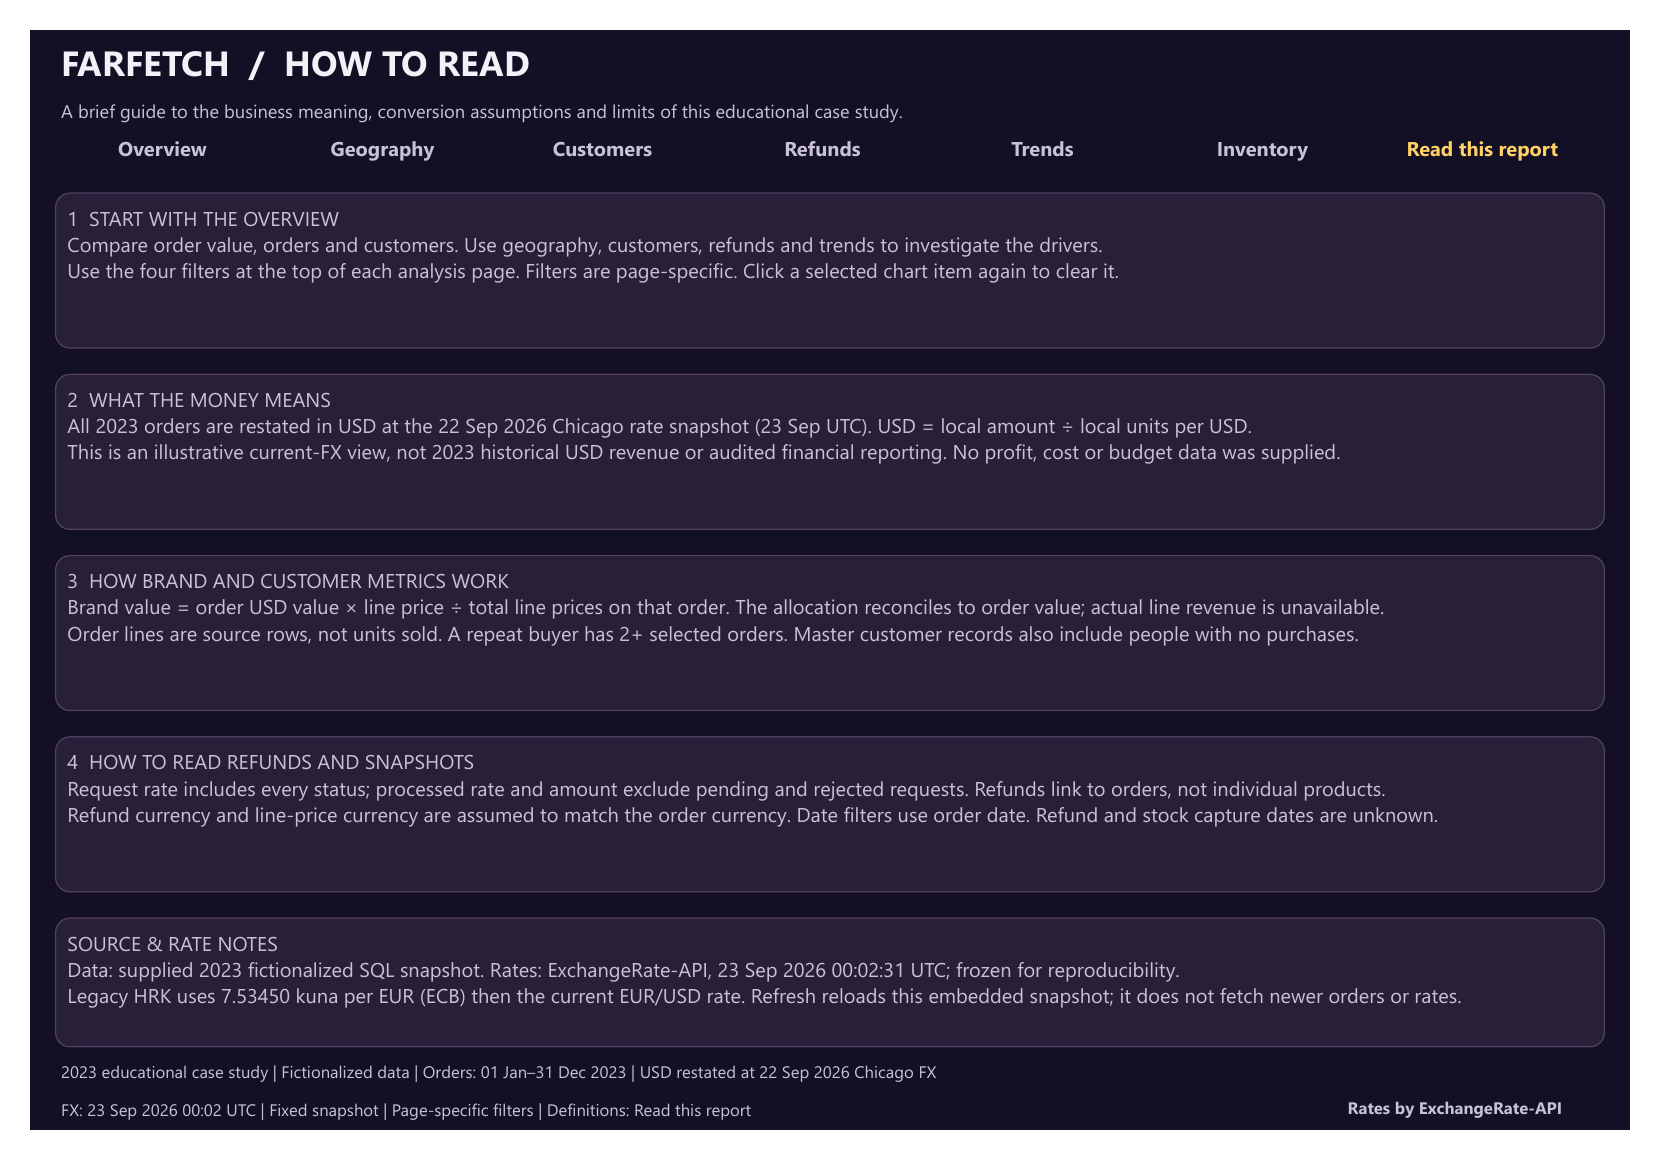

The dashboard page shown, as its layout file describes it:
{"tool":"powerbi","page":{"name":"How to Read","canvas":[1280,880],"ordinal":6},"visuals":[{"type":"textbox","box":[20,2,1238,48],"z":14000},{"type":"textbox","box":[20,50,1238,30],"z":14100},{"type":"actionButton","box":[20,78,172,32],"z":14200},{"type":"actionButton","box":[196,78,172,32],"z":14300},{"type":"actionButton","box":[372,78,172,32],"z":14400},{"type":"actionButton","box":[548,78,172,32],"z":14500},{"type":"actionButton","box":[724,78,172,32],"z":14600},{"type":"actionButton","box":[900,78,172,32],"z":14700},{"type":"actionButton","box":[1076,78,172,32],"z":14800},{"type":"textbox","box":[20,820,1240,30],"z":14900},{"type":"textbox","box":[20,850,990,28],"z":15000},{"type":"textbox","box":[20,130,1240,125],"z":15100},{"type":"textbox","box":[20,275,1240,125],"z":15200},{"type":"textbox","box":[20,420,1240,125],"z":15300},{"type":"textbox","box":[20,565,1240,125],"z":15400},{"type":"textbox","box":[20,710,1240,104],"z":15500},{"type":"actionButton","box":[1020,850,240,24],"z":16200}]}

Visuals, with their boxes in screenshot pixels (x1, y1, x2, y2), scaled from the page's 1280x880 canvas onto the 1660x1160 screenshot:
textbox: (26, 3, 1631, 66)
textbox: (26, 66, 1631, 105)
actionButton: (26, 103, 249, 145)
actionButton: (254, 103, 477, 145)
actionButton: (482, 103, 706, 145)
actionButton: (711, 103, 934, 145)
actionButton: (939, 103, 1162, 145)
actionButton: (1167, 103, 1390, 145)
actionButton: (1395, 103, 1618, 145)
textbox: (26, 1081, 1634, 1120)
textbox: (26, 1120, 1310, 1157)
textbox: (26, 171, 1634, 336)
textbox: (26, 362, 1634, 527)
textbox: (26, 554, 1634, 718)
textbox: (26, 745, 1634, 910)
textbox: (26, 936, 1634, 1073)
actionButton: (1323, 1120, 1634, 1152)
